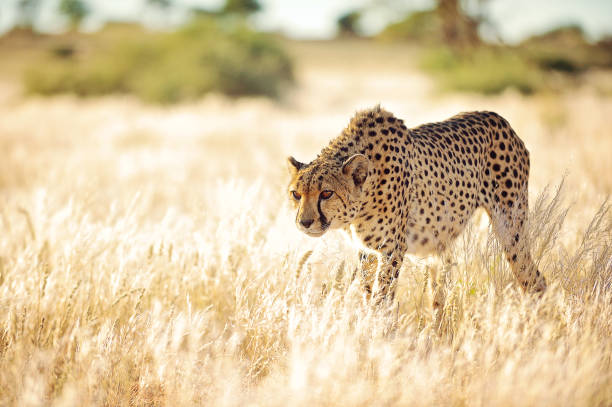cheetah: (275, 150, 375, 239)
